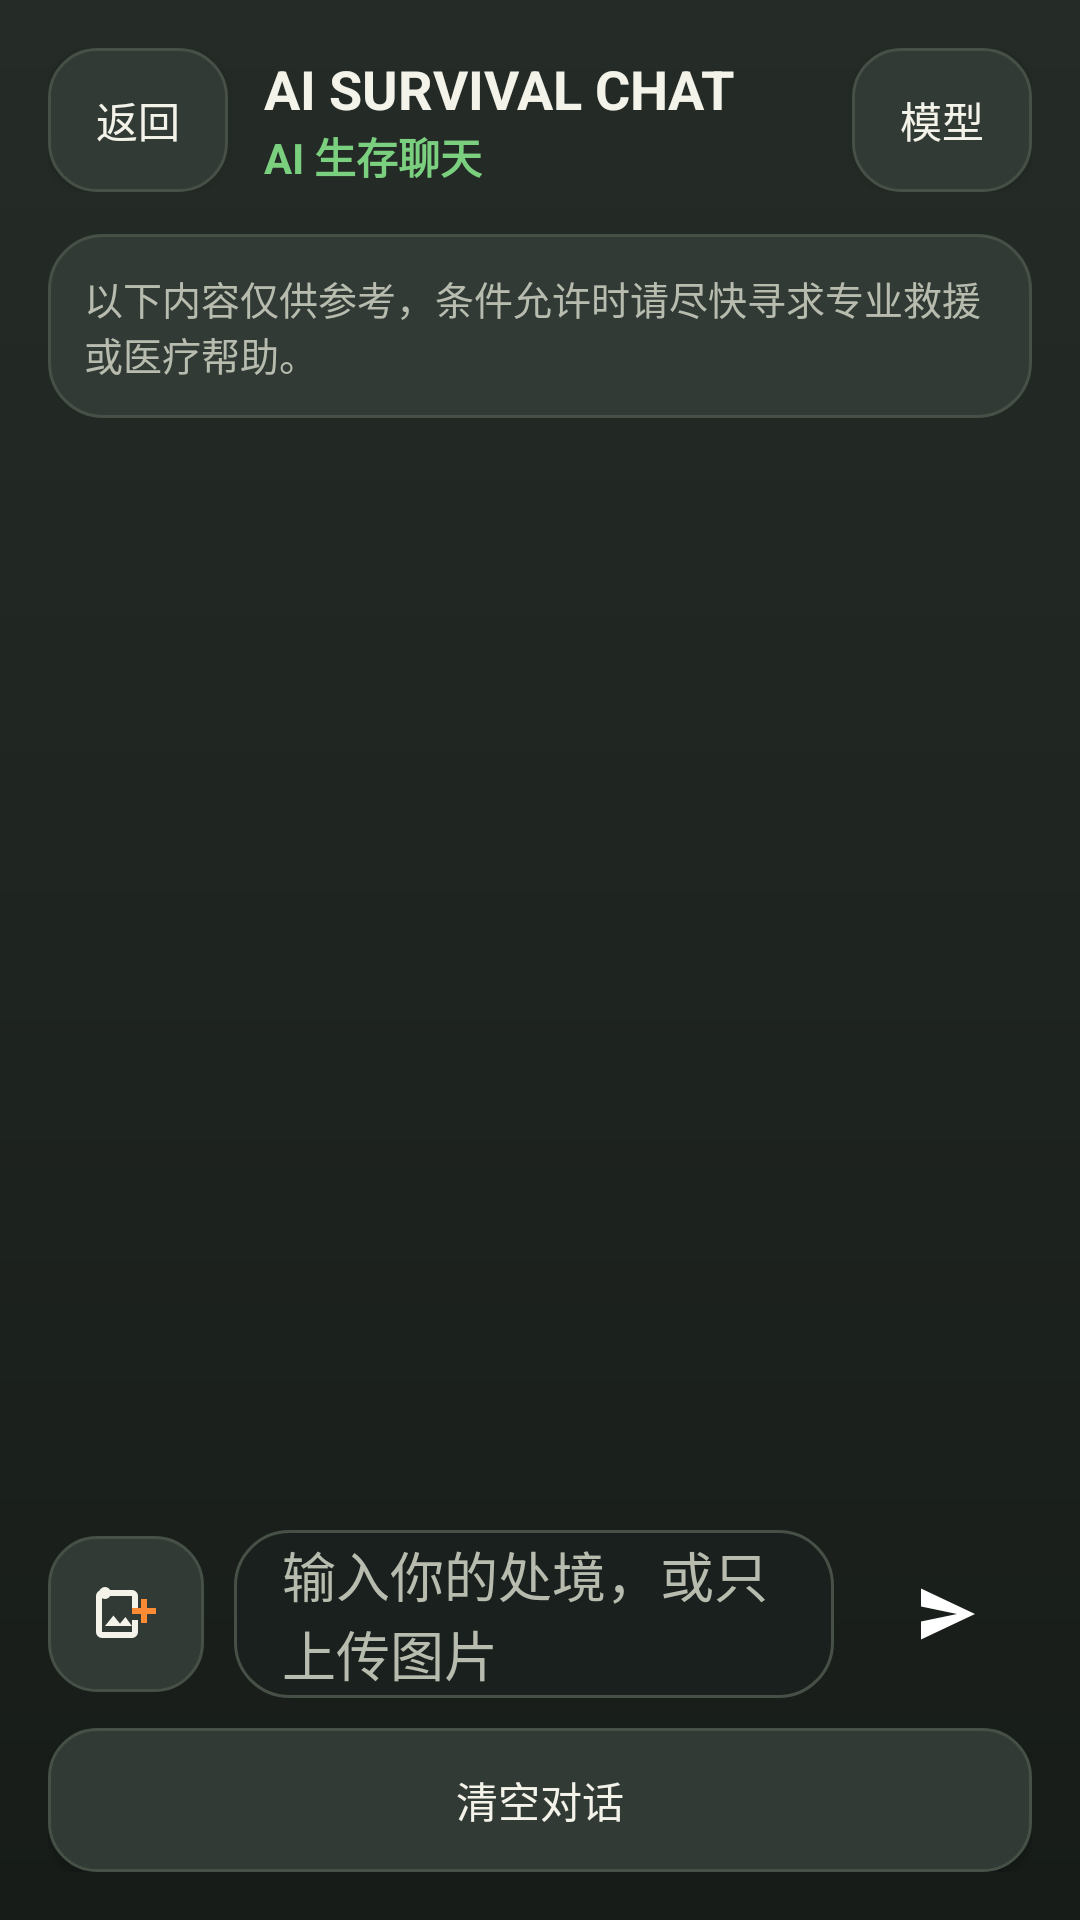

Named icons in this screenshot (1080w x 1920h) and their centers, point (x, y):
发送: point (948, 1614)
